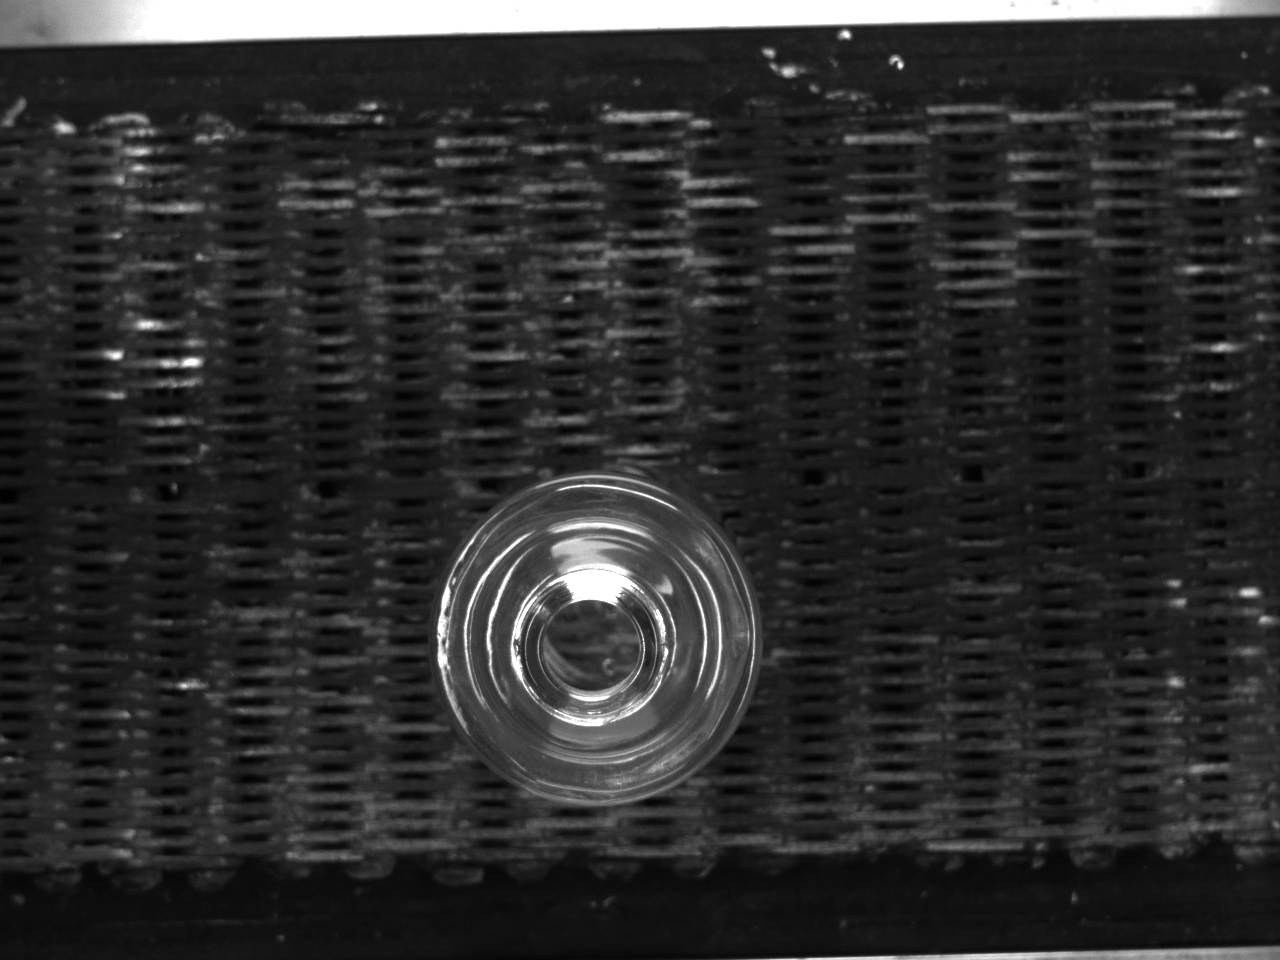bottleneck: (516, 565, 677, 724)
